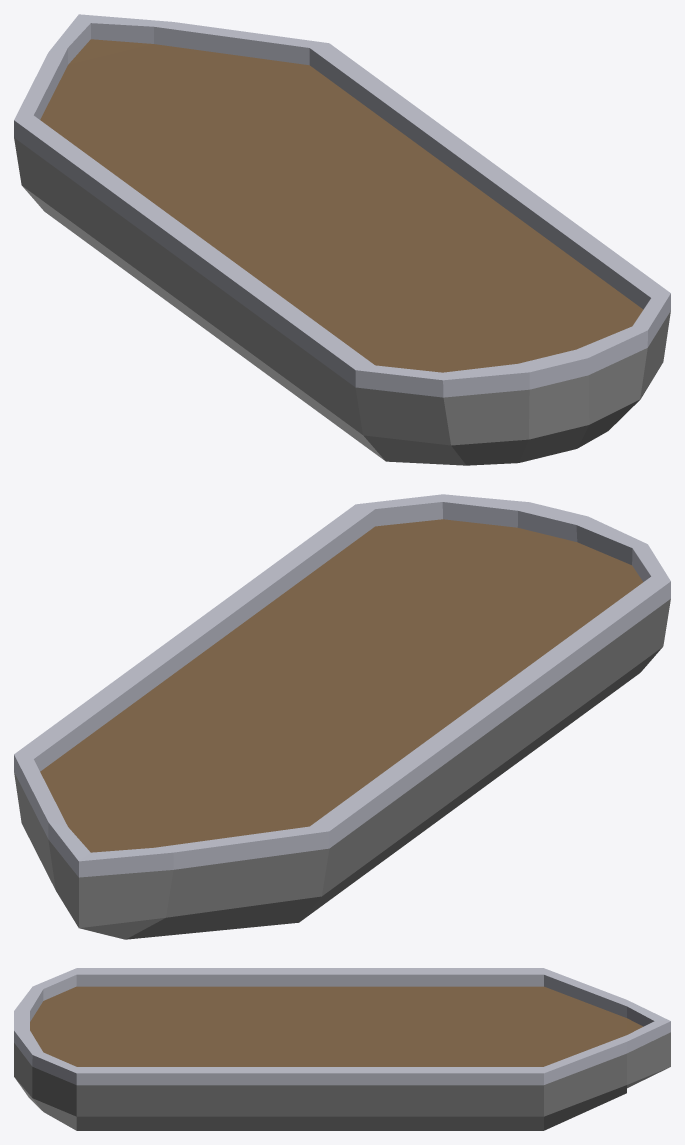
Rendered from Boat01.fbx.
3 renders of one model, top to bottom at view 1: azimuth 30°, elevation 25°; view 2: azimuth 150°, elevation 25°; view 3: azimuth 270°, elevation 25°, orthographic. The views are drawn at different scales.
Visible parts, largest first — view 1: Cube; view 2: Cube; view 3: Cube.
Part boxes in pixels (<box>): Cube: <box>14,14,670,465</box>; Cube: <box>14,494,670,939</box>; Cube: <box>14,968,670,1130</box>.
Bounding box in the file's own units: 751 × 261 × 1980.
